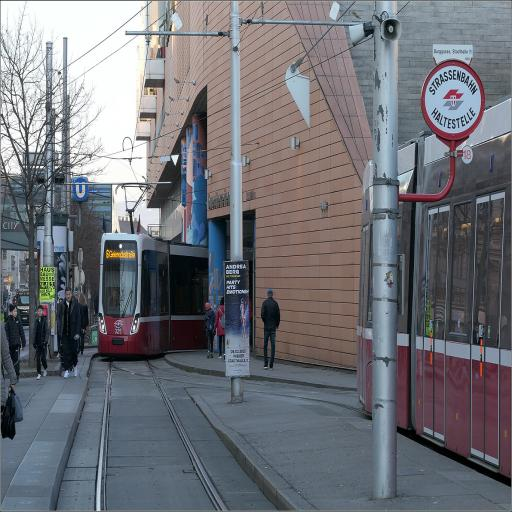Flexity: (97, 233, 207, 358)
